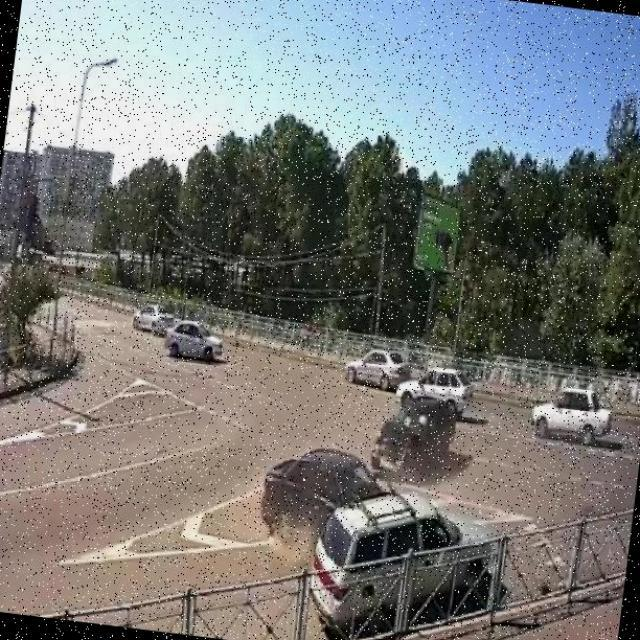accident: (283, 451, 447, 600)
